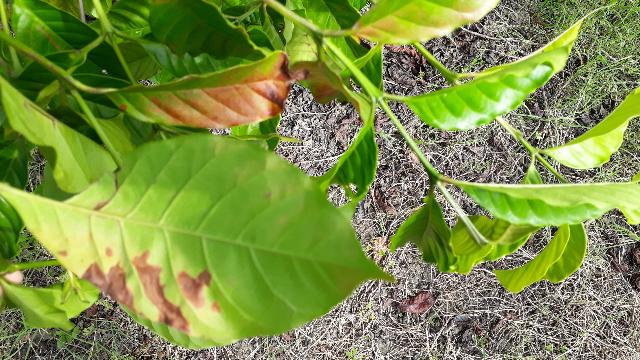red_spider_mite: (5, 133, 396, 351)
